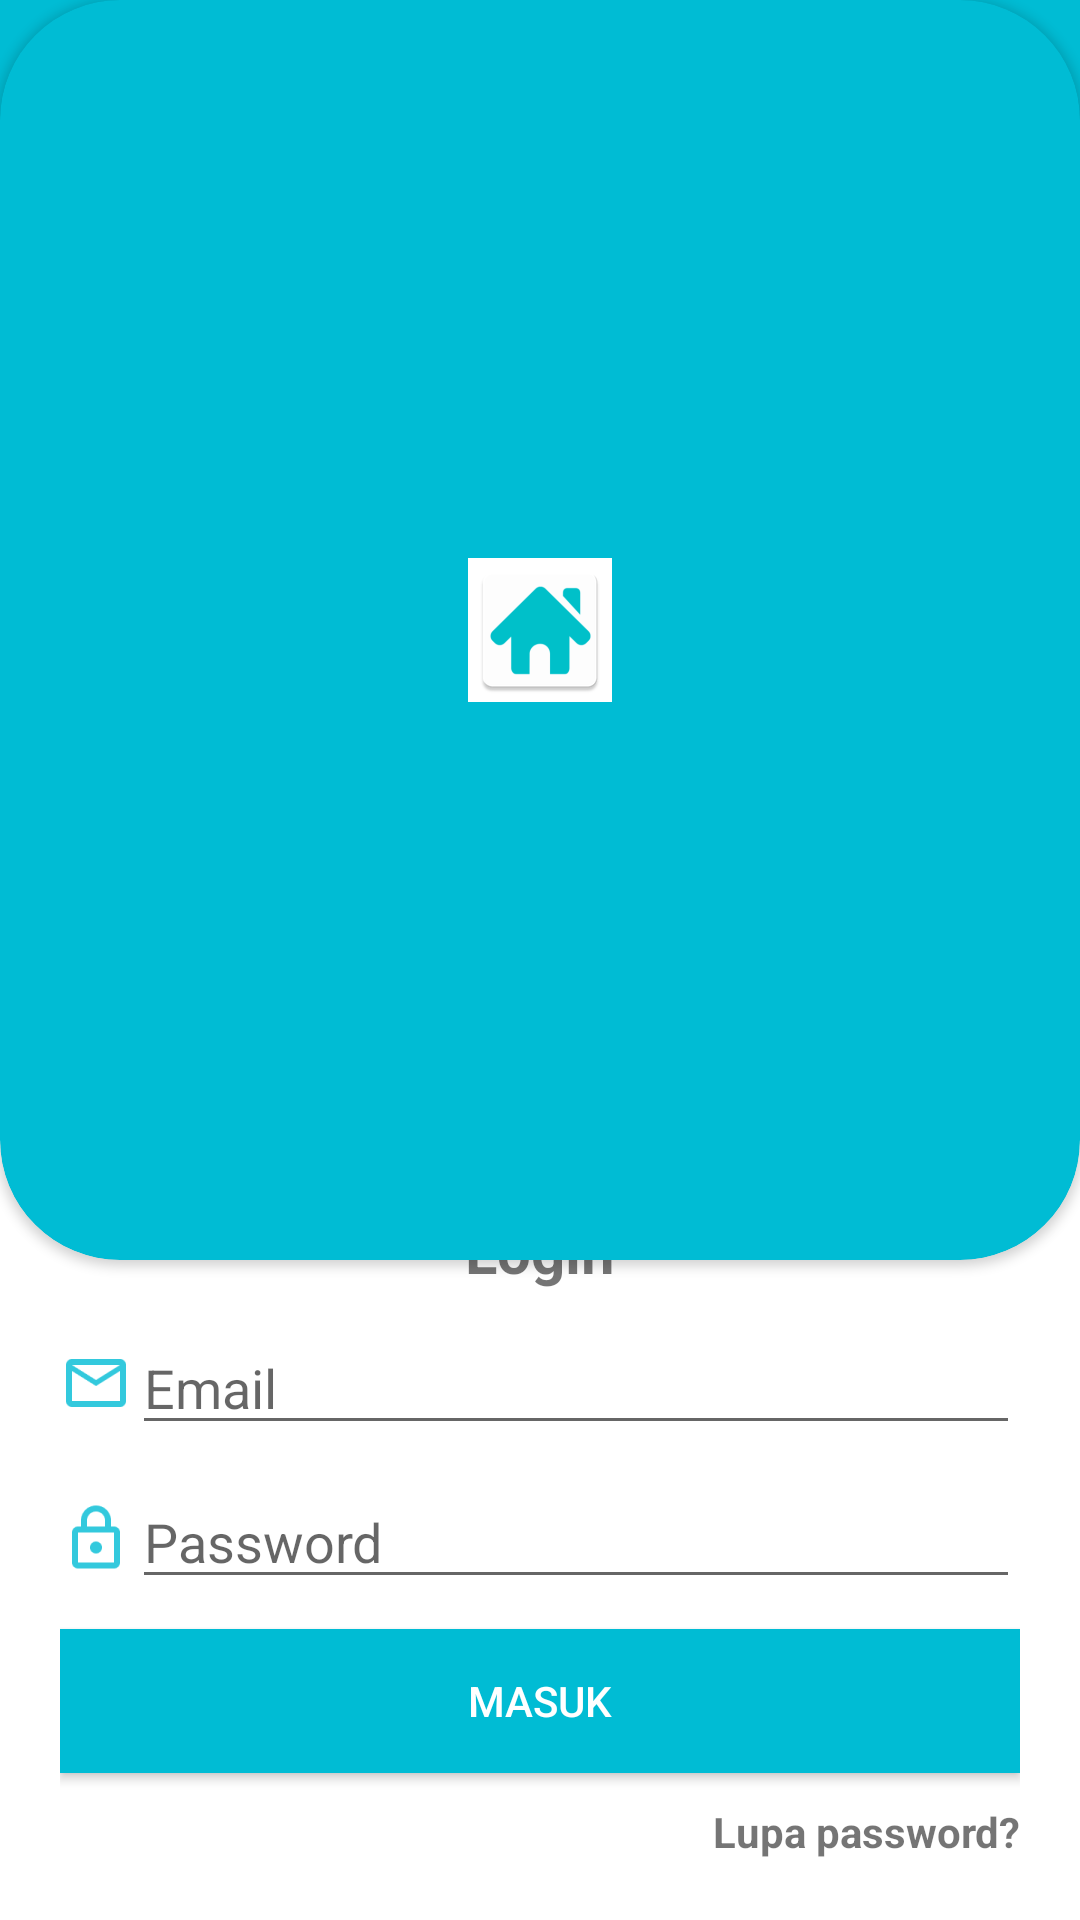

Named icons in this screenshot (1080×1920) and their bounding boxes, (x1,y1,x2,y2):
lock: (72,1505,120,1569)
